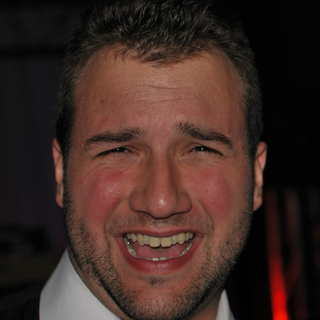eye: (92, 140, 141, 163), (182, 139, 228, 163)
